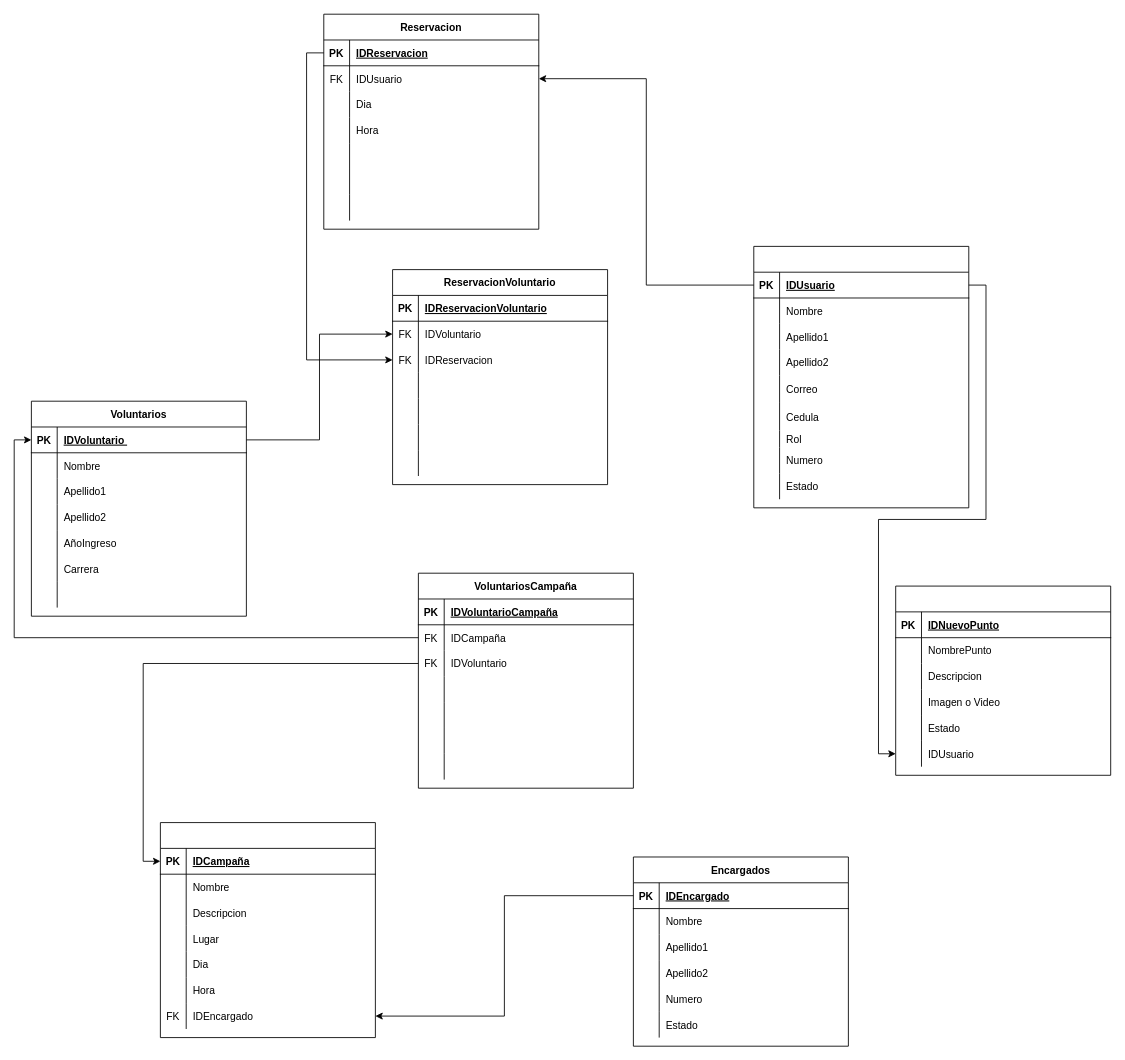
The diagram is 1125 pixels wide and 1060 high, and some of its shapes have lost their labels. The shapes that lost their labels are listed below. From the top down, each one's box as (x1, y1, x2, y2) in pixels, then its label:
(753, 246, 969, 508): Usuarios
(895, 585, 1111, 775): NuevosPuntosDeInteresSostenible
(160, 822, 375, 1038): Campañas
